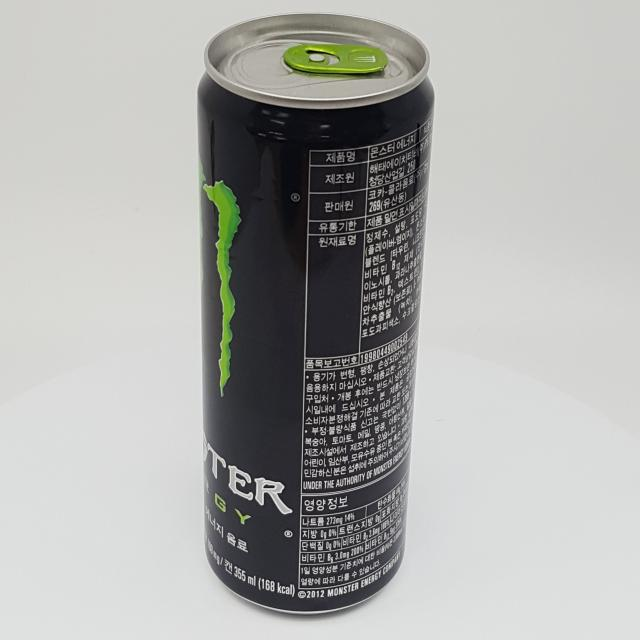--------355ML: (197, 12, 434, 615)
